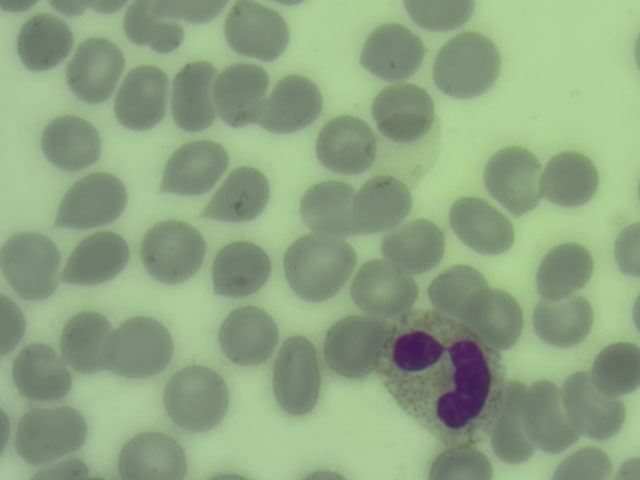RBC: (490, 366, 534, 464), (168, 56, 219, 132), (274, 332, 320, 413), (524, 375, 567, 456), (589, 334, 640, 400), (117, 434, 189, 480), (541, 152, 598, 209), (290, 237, 347, 294), (353, 175, 410, 232), (300, 181, 357, 238), (314, 116, 371, 173), (377, 81, 434, 138), (437, 36, 494, 93), (363, 24, 420, 81), (267, 74, 324, 131), (211, 64, 268, 121), (213, 168, 270, 225), (163, 137, 220, 194), (214, 240, 271, 297), (322, 318, 379, 375), (428, 256, 485, 313), (467, 289, 524, 346), (535, 289, 592, 346), (536, 238, 593, 295), (568, 378, 625, 435), (217, 306, 274, 363), (143, 222, 200, 279), (168, 370, 225, 427), (111, 318, 168, 375), (57, 311, 114, 368), (21, 403, 78, 460), (8, 344, 65, 401), (69, 230, 126, 287), (68, 170, 125, 227), (42, 116, 99, 173), (113, 68, 170, 125), (65, 41, 122, 98), (15, 14, 72, 71), (487, 146, 544, 203), (450, 195, 507, 252), (386, 214, 443, 271), (352, 261, 409, 318), (226, 1, 283, 57), (1, 235, 57, 292), (121, 1, 182, 51), (552, 437, 617, 480), (426, 442, 494, 479), (604, 219, 640, 284), (405, 1, 473, 31), (1, 297, 29, 353)
WBC: (385, 315, 498, 442)
